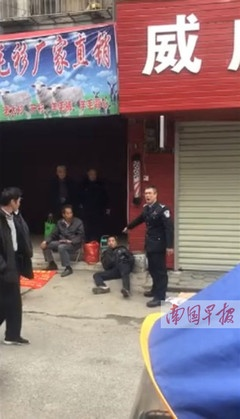falling: (87, 232, 136, 300)
